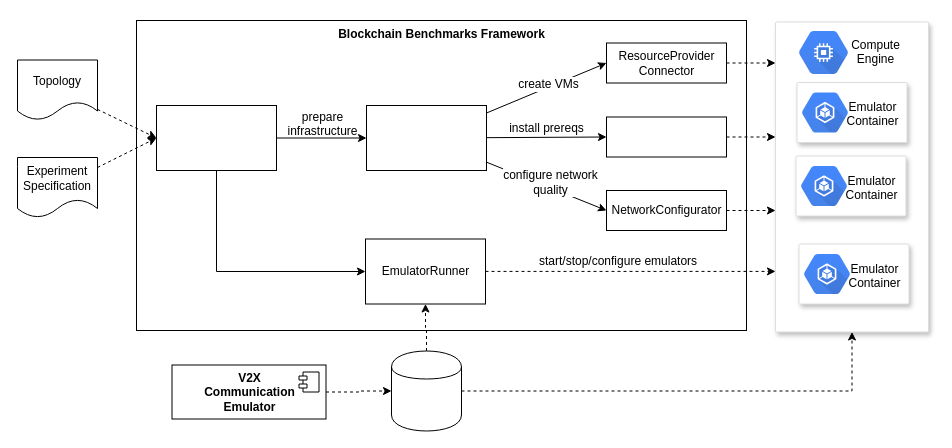
This 952x448 diagram has some shape labels left out. The centre of each missing label's shape, as x and y in pixels:
ArtefactInstaller: the point at 666,136
BenchmarkExecutor: the point at 216,137
Emulator Containers Repository: the point at 426,390
InfrastructureBuilder: the point at 426,137
